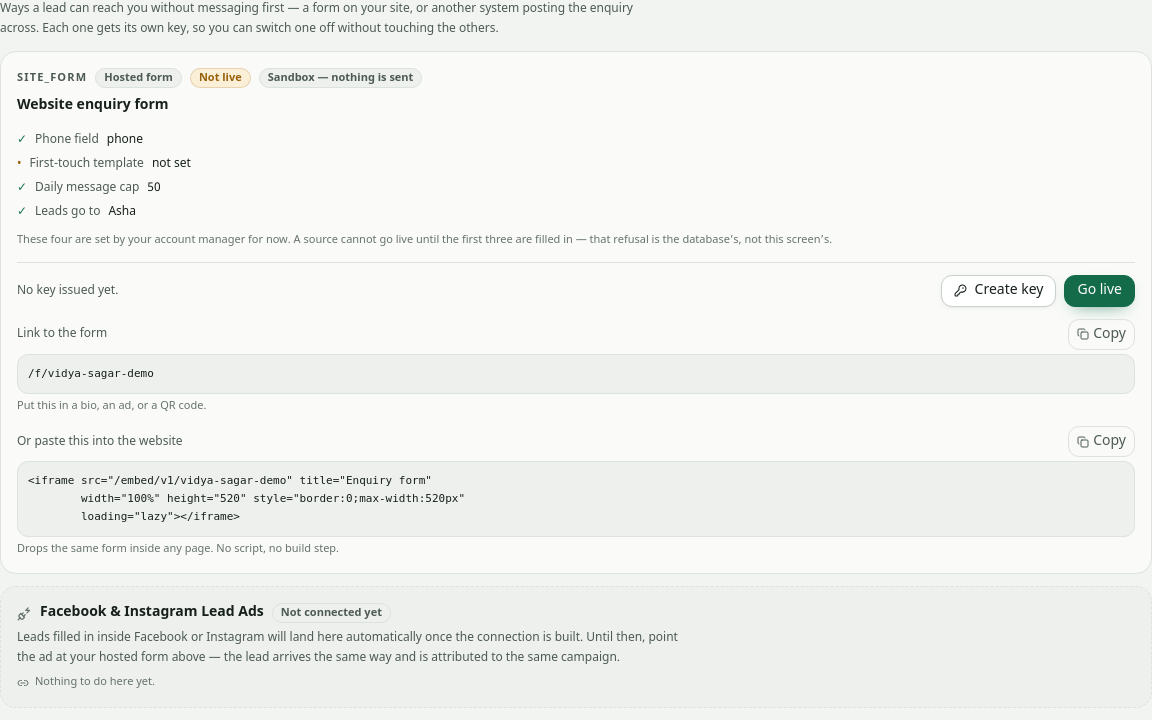
Scenario: Lead sources › names the activation refusal the database gave
What coordinates should you click on to do the following:
click the button "Go live"
I would click on:
 (1100, 291)
Its box is [1064,275,1135,307].
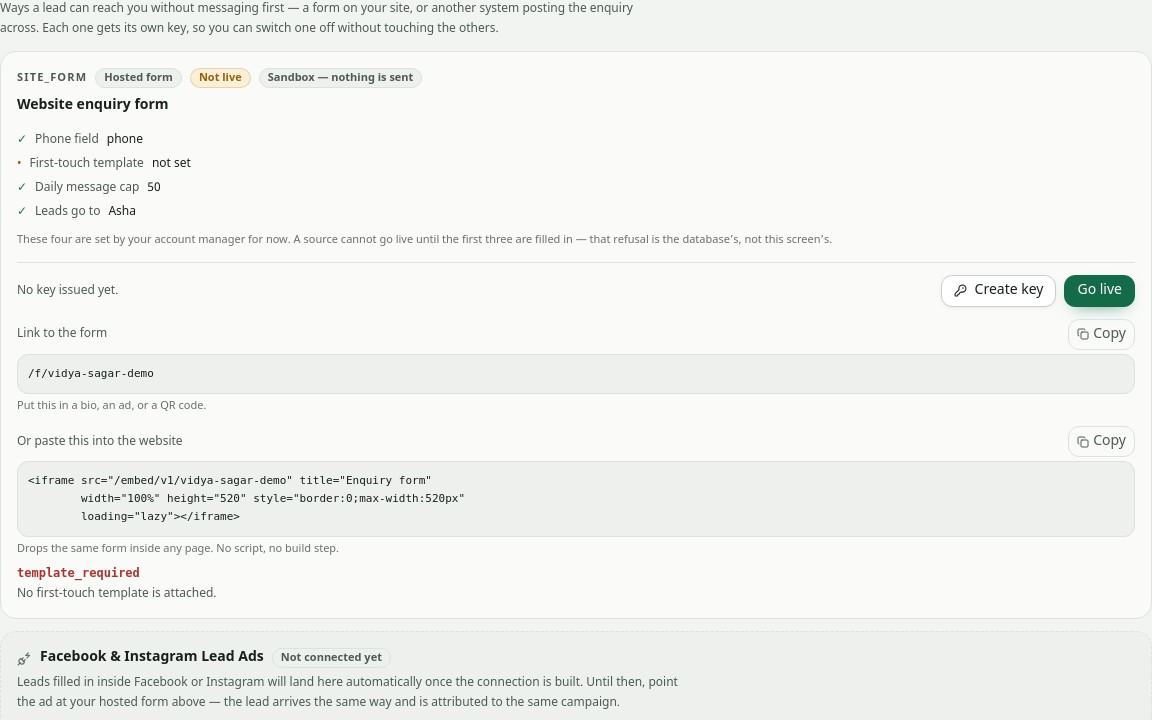
Now the message reads "template_required", box [17,566,140,580]
Now the text "No first-touch template is attached." is shown, box [17,586,216,602]
